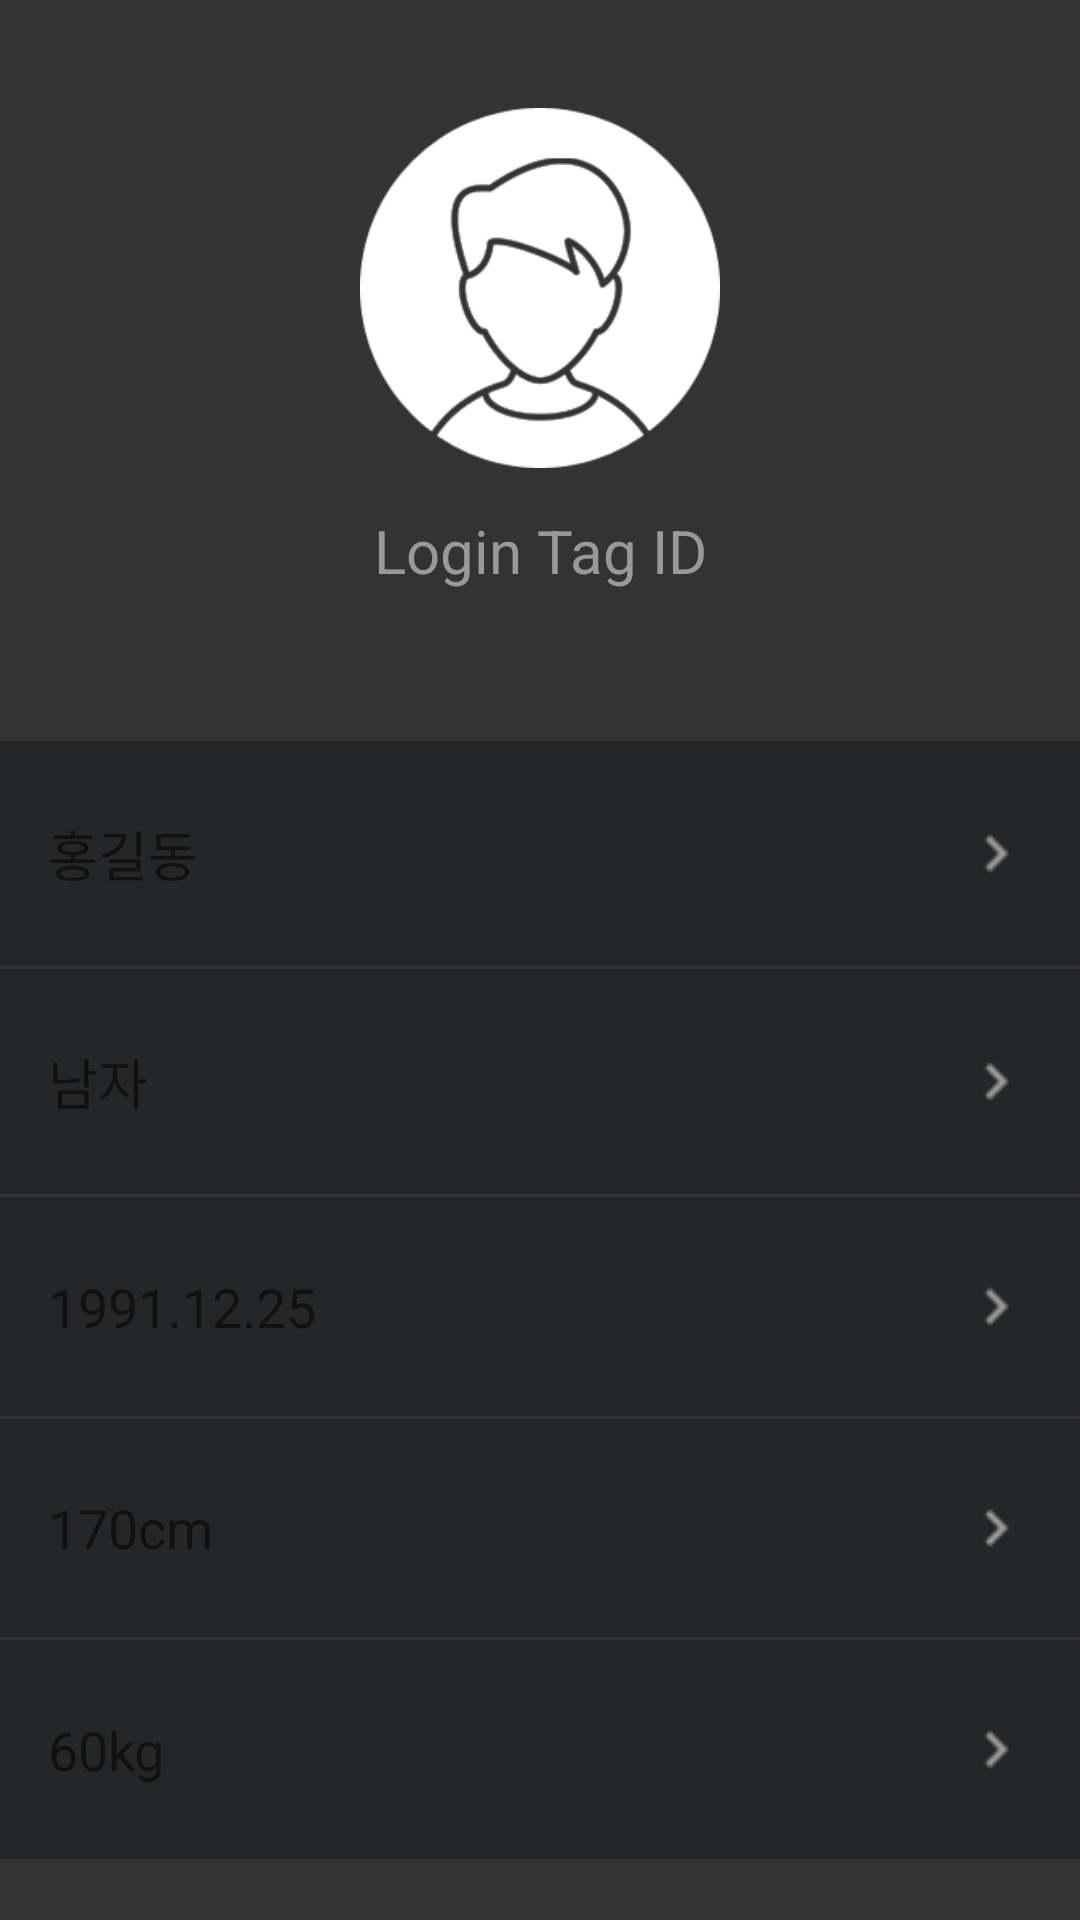

Icon click points for this 1080px×1920px phone screenshot, format (x=x, y=y):
arrow: (x=997, y=853), (x=997, y=1081), (x=997, y=1306), (x=996, y=1528), (x=997, y=1749)
basicprofile: (x=540, y=288)
